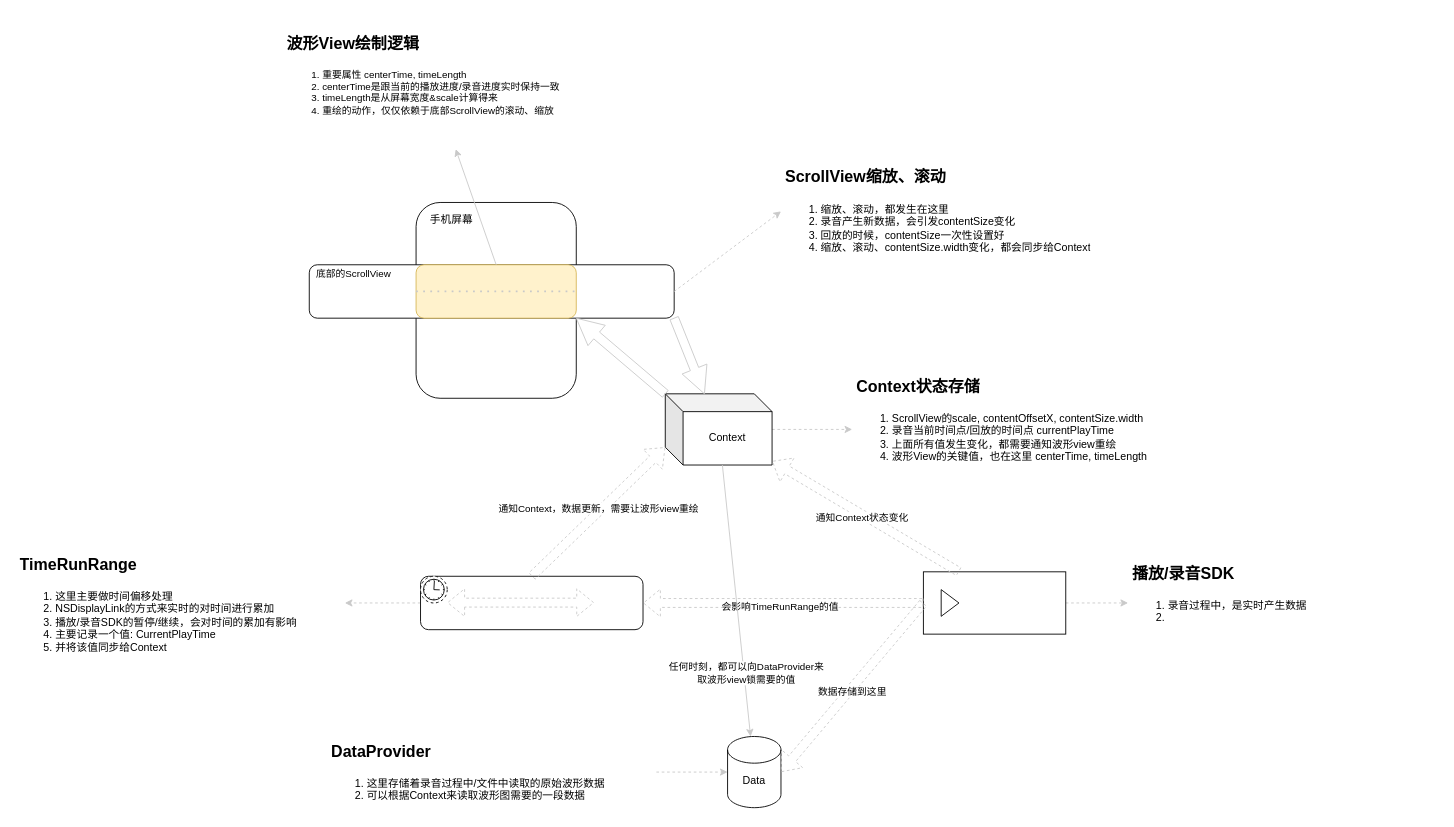
Image size: 1454x827. Some labels were removed from this diagram. Each missing label, with the box of its shape:
播放/录音 SDK: (922, 571, 1066, 634)
波形View: (415, 264, 576, 318)
